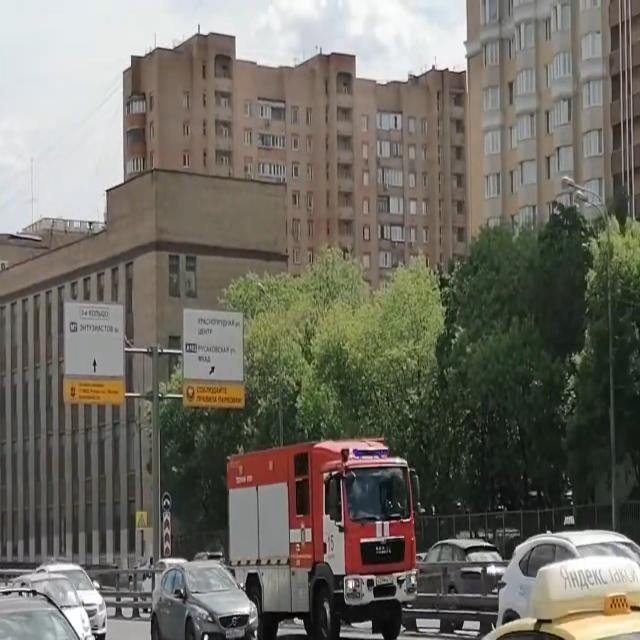fire fighting vehicle: (227, 443, 415, 638)
non emergency car: (499, 525, 640, 633), (153, 562, 259, 638), (417, 536, 504, 606), (36, 556, 105, 638)
